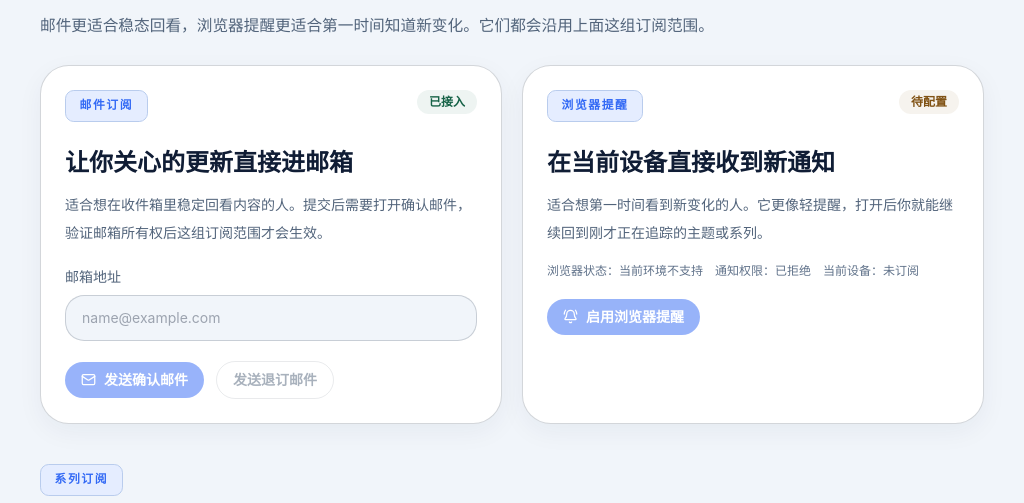
Test: requests an email confirmation without claiming the subscription is already active
The width and height of the screenshot is (1024, 503).
(page scrolled)
Expected: the heading "让你关心的更新直接进邮箱" is shown, [65,147,353,179]
Type "reader@example.com" into the field labelled "邮箱地址" at coordinates (271, 318), box [65,295,477,341]
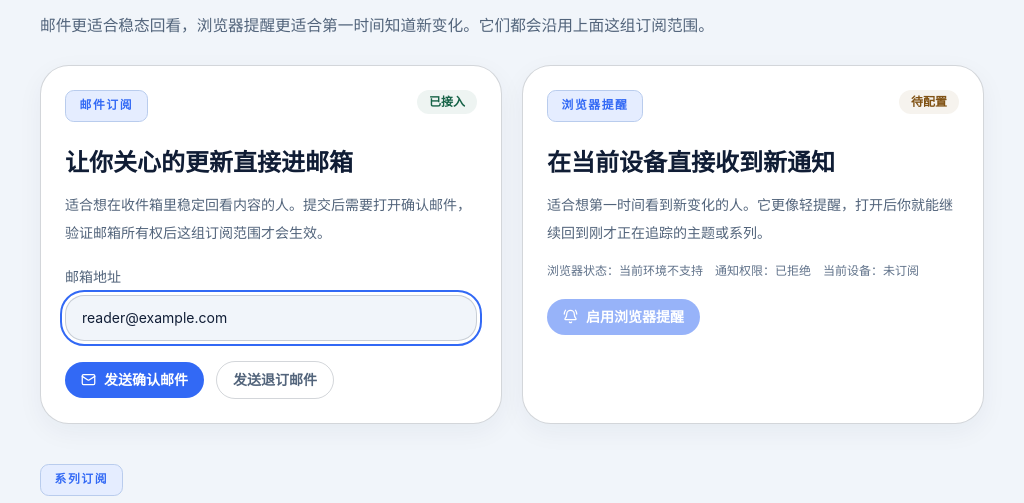
Click the button "发送确认邮件" at coordinates (134, 380), box [65,362,204,398]
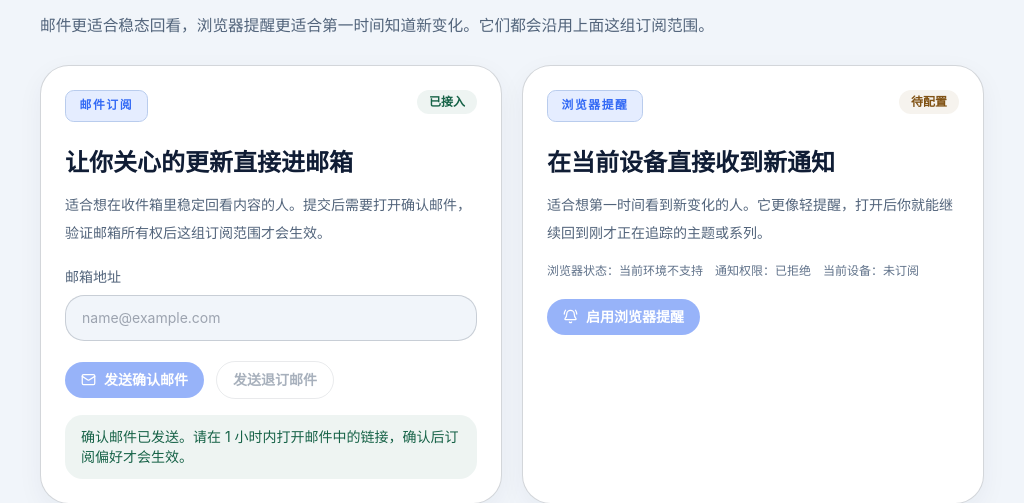
Expected: the text "确认邮件已发送。请在 1 小时内打开邮件中的链接，确认后订阅偏好才会生效。" is shown, [65,415,477,479]
